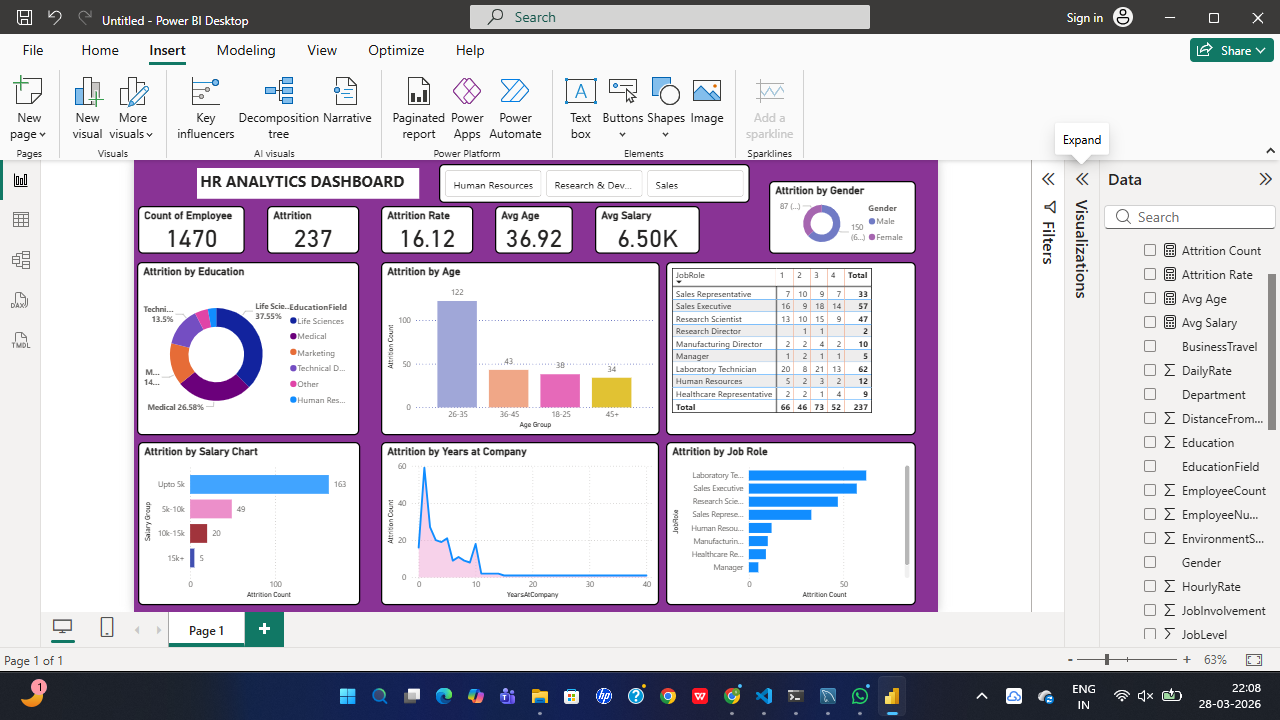

This screenshot's page, from the dashboard's own definition file:
{"tool":"powerbi","page":{"name":"Page 1","canvas":[1280,720],"ordinal":0},"visuals":[{"type":"card","title":"Count of Employee","fields":{"Values":["cleaned_hr_data.Total Employees"]},"box":[6.4,73.3,170.4,76.5],"z":0},{"type":"card","title":"Attrition","fields":{"Values":["cleaned_hr_data.Attrition Count"]},"box":[211.9,73.3,146.5,76.5],"z":1000},{"type":"card","title":"Attrition Rate","fields":{"Values":["cleaned_hr_data.Attrition Rate"]},"box":[393.5,73.3,146.5,76.5],"z":2000},{"type":"card","title":"Avg Age","fields":{"Values":["cleaned_hr_data.Avg Age"]},"box":[575,73.3,124.2,76.5],"z":3000},{"type":"card","title":"Avg Salary","fields":{"Values":["cleaned_hr_data.Avg Salary"]},"box":[734.3,73.3,167.3,76.5],"z":4000},{"type":"donutChart","title":"Attrition  by Education","fields":{"Category":["cleaned_hr_data.EducationField"],"Y":["cleaned_hr_data.Attrition Count"]},"box":[4.8,162.5,353.6,275.6],"z":5000},{"type":"clusteredBarChart","title":"Attrition  by Salary Chart","fields":{"Y":["cleaned_hr_data.Attrition Count"],"Category":["cleaned_hr_data.Salary Group"]},"box":[6.4,449.2,353.6,259.6],"z":6000},{"type":"clusteredColumnChart","title":"Attrition  by Age ","fields":{"Category":["cleaned_hr_data.Age Group"],"Y":["cleaned_hr_data.Attrition Count"]},"box":[393.5,162.5,444.4,275.6],"z":7000},{"type":"lineChart","title":"Attrition by Years at Company","fields":{"Category":["cleaned_hr_data.YearsAtCompany"],"Y":["cleaned_hr_data.Attrition Count"]},"box":[393.5,449.2,442.8,259.6],"z":8000},{"type":"clusteredBarChart","title":"Attrition by Job Role","fields":{"Category":["cleaned_hr_data.JobRole"],"Y":["cleaned_hr_data.Attrition Count"]},"box":[847.4,449.2,398.2,259.6],"z":9000},{"type":"donutChart","title":"Attrition by Gender","fields":{"Category":["cleaned_hr_data.Gender"],"Y":["cleaned_hr_data.Attrition Count"]},"box":[1011.5,33.5,234.2,116.3],"z":10000},{"type":"pivotTable","fields":{"Rows":["cleaned_hr_data.JobRole"],"Columns":["cleaned_hr_data.JobSatisfaction"],"Values":["cleaned_hr_data.Attrition Count"]},"box":[847.4,162.5,398.2,275.6],"z":10001},{"type":"advancedSlicerVisual","fields":{"Values":["cleaned_hr_data.Department"]},"box":[485.8,6.4,495.4,62.1],"z":10002},{"type":"textbox","box":[100.4,12.7,353.6,49.4],"z":10003}]}

Visuals, with their boxes on the page's 1280x720 design canvas (x1, y1, x2, y2). These are canvas units, not pixel positions in the 1280x720 screenshot, which may show the page scaled, cropped or inside an application window:
"Count of Employee" card: rect(6, 73, 177, 150)
"Attrition" card: rect(212, 73, 358, 150)
"Attrition Rate" card: rect(394, 73, 540, 150)
"Avg Age" card: rect(575, 73, 699, 150)
"Avg Salary" card: rect(734, 73, 902, 150)
"Attrition  by Education" donutChart: rect(5, 162, 358, 438)
"Attrition  by Salary Chart" clusteredBarChart: rect(6, 449, 360, 709)
"Attrition  by Age " clusteredColumnChart: rect(394, 162, 838, 438)
"Attrition by Years at Company" lineChart: rect(394, 449, 836, 709)
"Attrition by Job Role" clusteredBarChart: rect(847, 449, 1246, 709)
"Attrition by Gender" donutChart: rect(1012, 34, 1246, 150)
pivotTable - cleaned_hr_data.JobRole x cleaned_hr_data.JobSatisfaction: rect(847, 162, 1246, 438)
advancedSlicerVisual - cleaned_hr_data.Department: rect(486, 6, 981, 68)
textbox: rect(100, 13, 454, 62)
